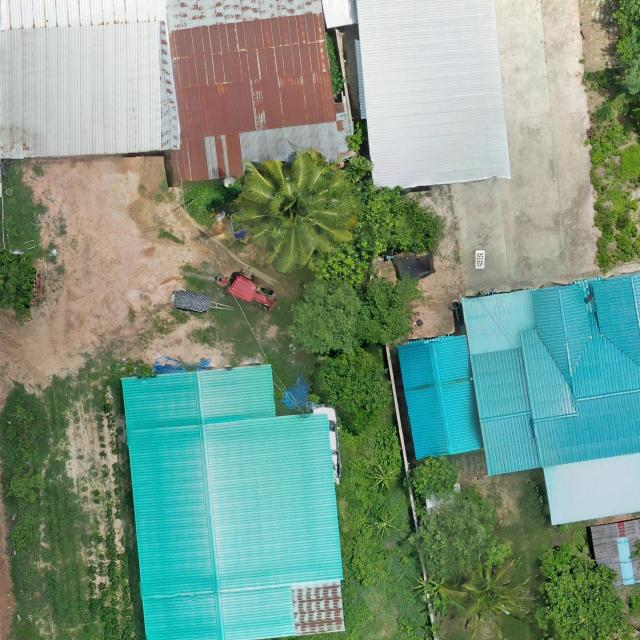Tree: (236, 152, 355, 272), (537, 542, 629, 640), (436, 555, 530, 634), (310, 347, 394, 435), (288, 277, 359, 356), (358, 272, 426, 350), (0, 250, 37, 324), (409, 454, 459, 500)
